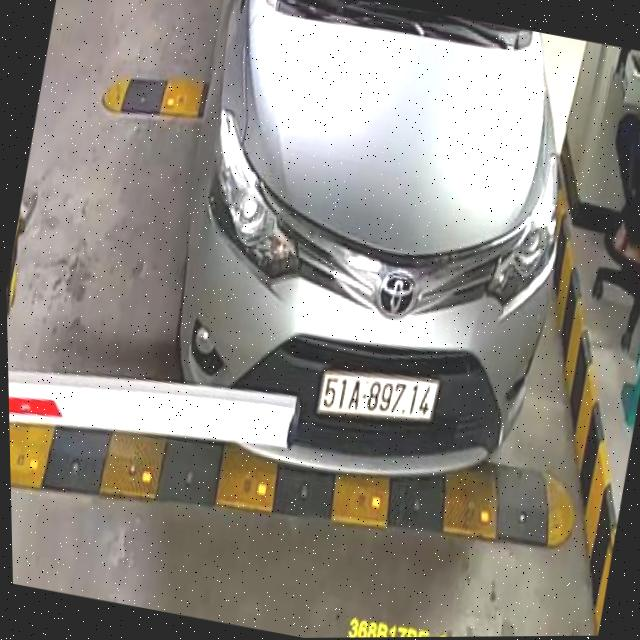car: (128, 0, 612, 527)
plate: (315, 362, 446, 437)
